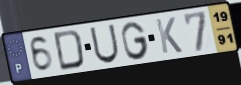6: (28, 34, 55, 73)
7: (181, 9, 208, 54)
D: (52, 28, 86, 72)
G: (120, 20, 151, 62)
K: (154, 16, 184, 56)
U: (88, 23, 121, 65)
